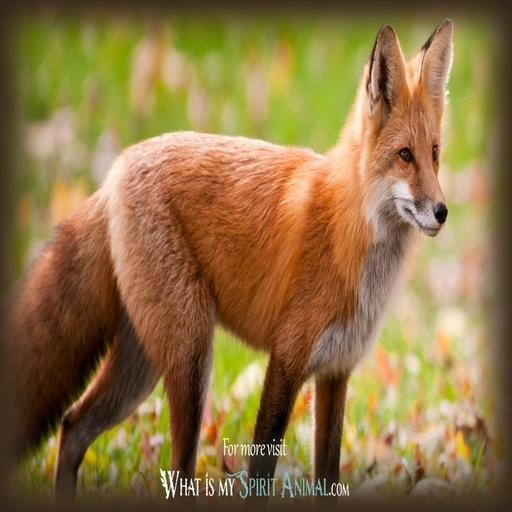Fox: (0, 14, 458, 500)
